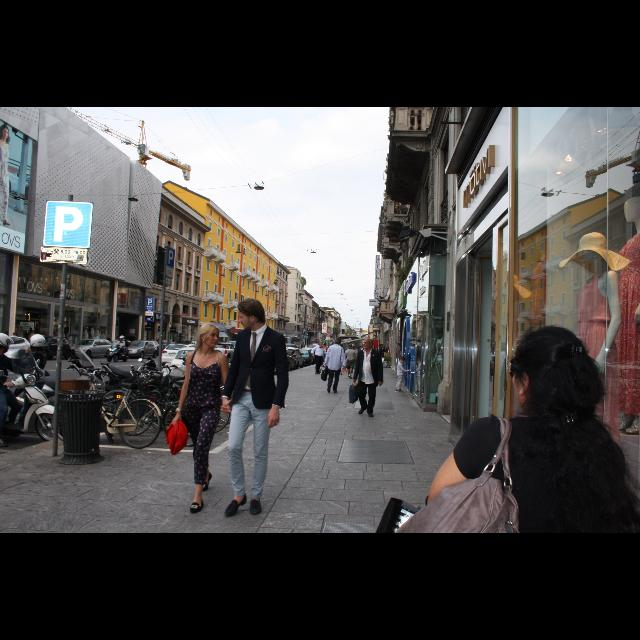head: (510, 326, 588, 414), (238, 299, 264, 331), (198, 324, 220, 348), (30, 338, 44, 352), (0, 338, 10, 356), (362, 338, 373, 349), (1, 125, 9, 139), (334, 338, 342, 346), (400, 356, 406, 364), (319, 342, 323, 348), (339, 344, 343, 350), (120, 337, 124, 341), (348, 344, 352, 348), (351, 345, 355, 349), (358, 346, 362, 350), (381, 344, 384, 348), (95, 333, 97, 337), (324, 344, 326, 348), (362, 344, 364, 348), (373, 346, 375, 349), (107, 336, 109, 338), (164, 338, 166, 340), (376, 348, 378, 350)
person: (218, 296, 292, 520), (170, 322, 236, 516), (2, 334, 48, 436), (0, 331, 24, 448), (352, 338, 384, 418), (322, 338, 346, 394), (0, 123, 12, 227), (394, 356, 412, 394), (311, 342, 329, 376), (344, 342, 358, 380), (106, 335, 128, 359), (334, 344, 346, 376), (348, 344, 358, 372), (378, 344, 387, 368), (321, 344, 329, 368), (92, 333, 100, 352), (356, 346, 362, 370), (359, 344, 365, 362), (161, 338, 167, 352), (374, 347, 380, 361), (106, 336, 110, 350), (372, 346, 376, 360)
